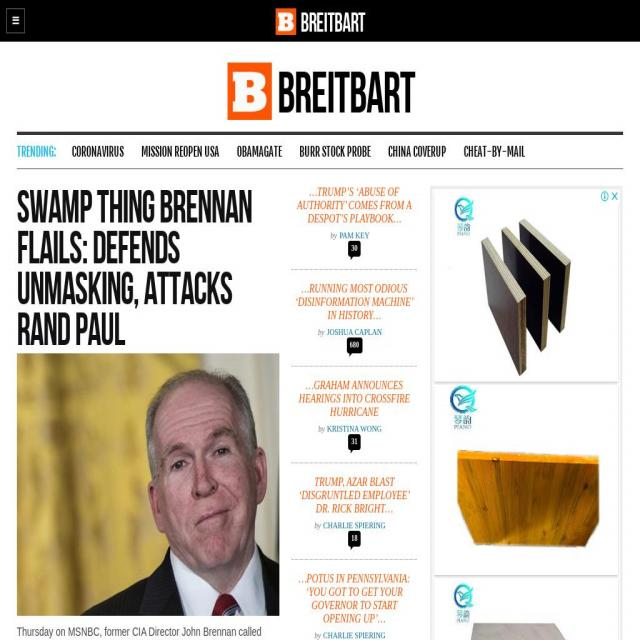navigation-links: (14, 135, 538, 167)
options: (6, 5, 30, 35)
